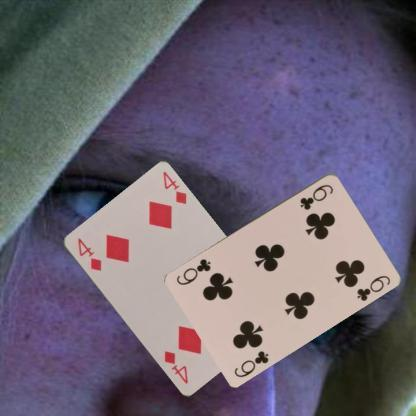4d: (74, 235, 103, 273)
6c: (297, 180, 335, 212), (232, 348, 270, 378)
